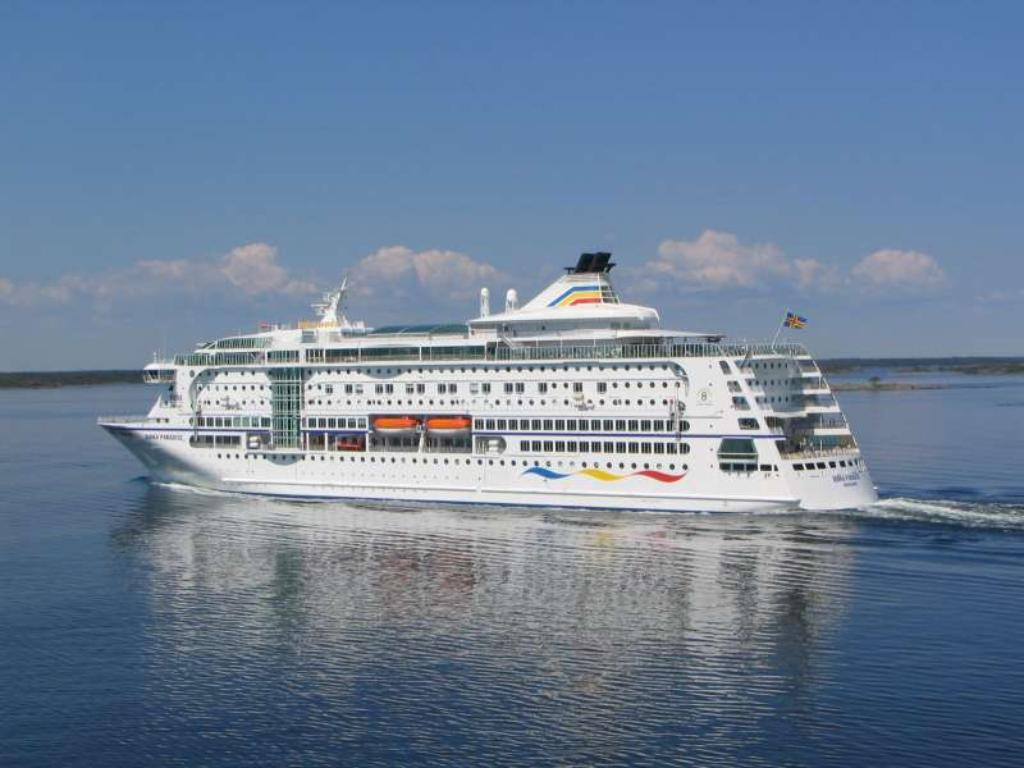PassengerShip: (92, 247, 886, 521)
